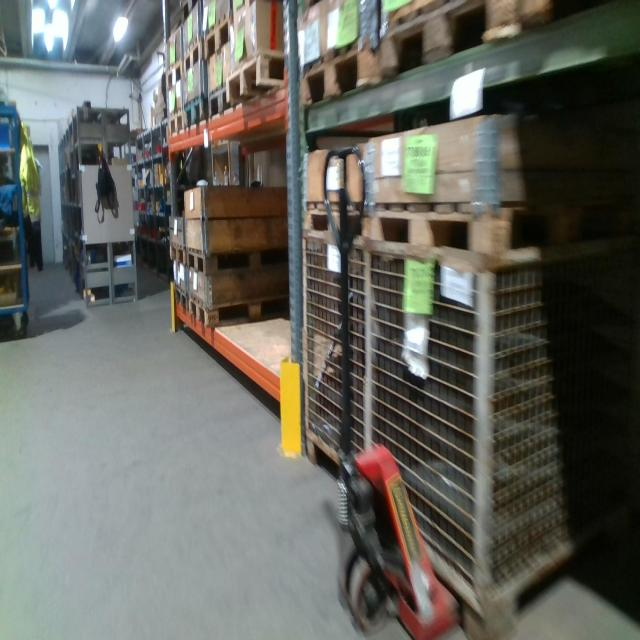pallet: (365, 196, 581, 262), (373, 4, 529, 93), (294, 39, 375, 117), (188, 283, 287, 326), (226, 44, 286, 108), (303, 200, 371, 248), (186, 244, 287, 274), (204, 12, 234, 64), (208, 81, 234, 129), (184, 92, 211, 133), (183, 35, 204, 78), (165, 53, 183, 89), (167, 106, 184, 139), (171, 279, 187, 313), (166, 238, 183, 264)
pallet_truck: (318, 140, 470, 640)
stillage: (365, 224, 632, 635), (302, 221, 368, 486)
